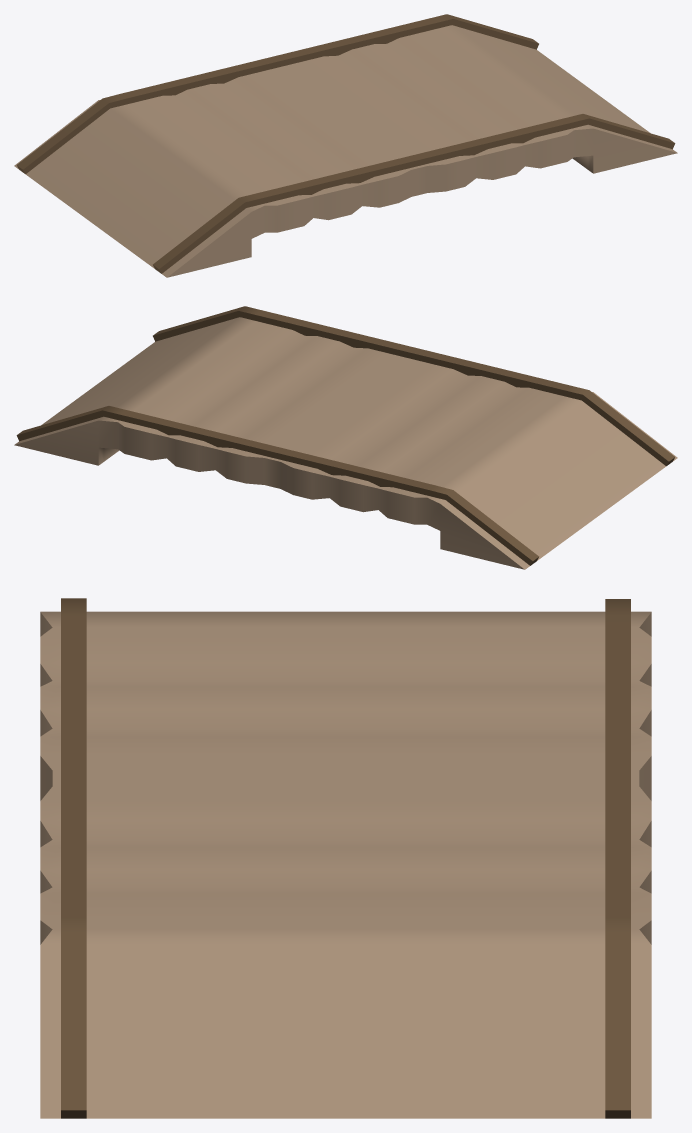
File: bridge_test.fbx
The picture shows the model from 3 angles, top to bottom: view 1: azimuth 30°, elevation 25°; view 2: azimuth 150°, elevation 25°; view 3: azimuth 270°, elevation 25°; orthographic projection. The views are drawn at different scales.
Parts seen in each view (by area): view 1: pCube1; view 2: pCube1; view 3: pCube1.
Part boxes in pixels (x1,y1,x2,y2): pCube1: (14,14,677,277); pCube1: (14,306,677,569); pCube1: (40,598,651,1118).
Size of the model in its own units: 8.81 by 0.8362 by 4.52.
